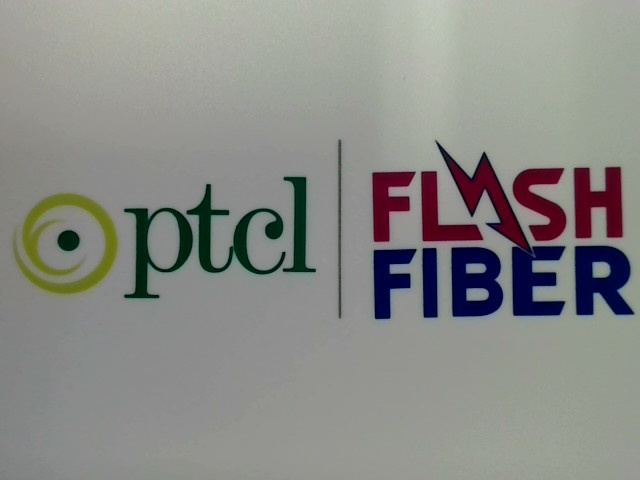BF_PTCL: (3, 168, 323, 302)
